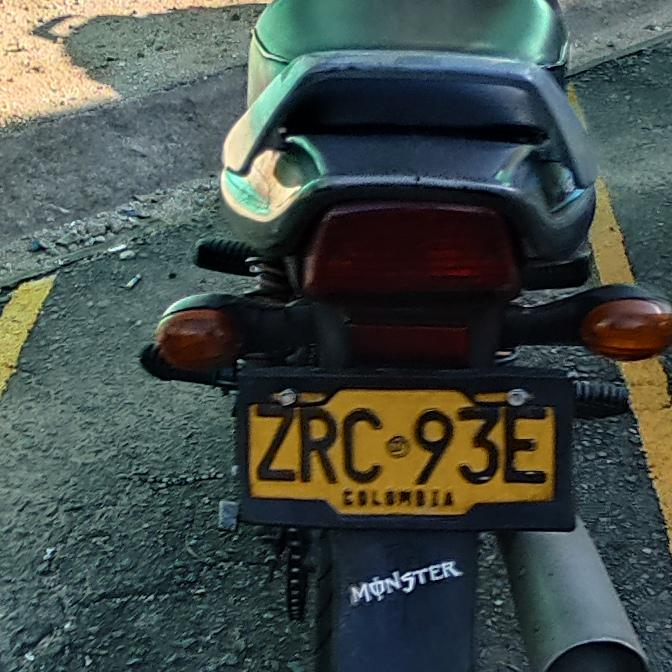plates: (236, 379, 568, 531)
